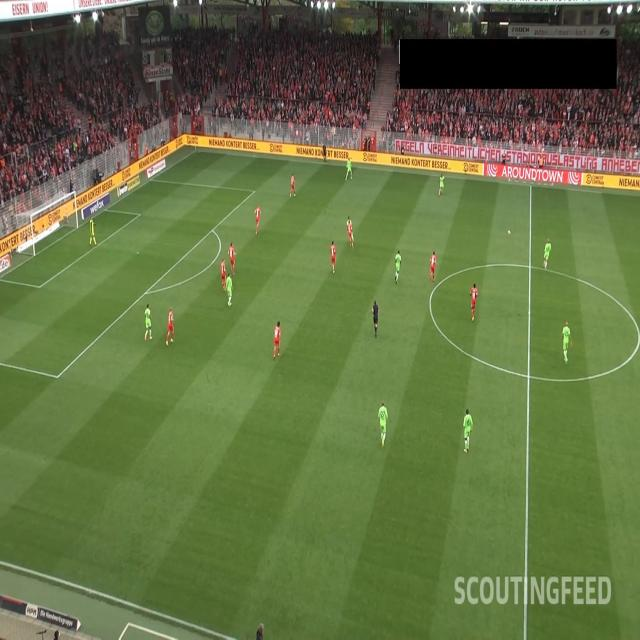ball: (507, 228, 512, 236)
